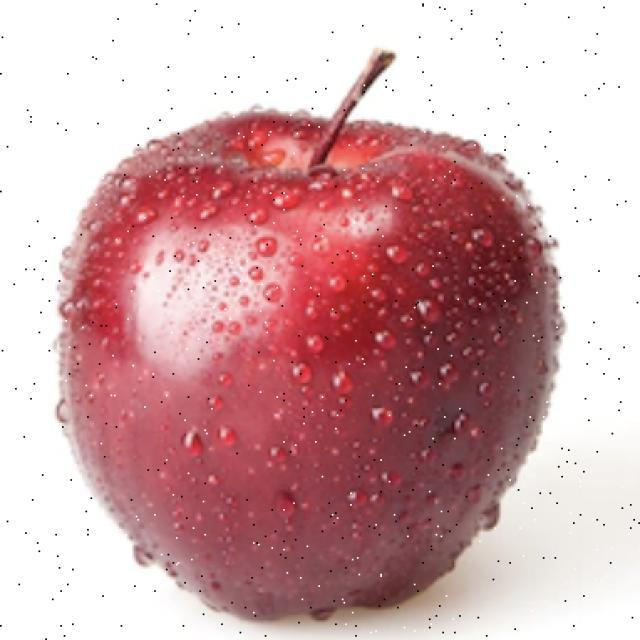Fresh Apple: (45, 106, 573, 626)
